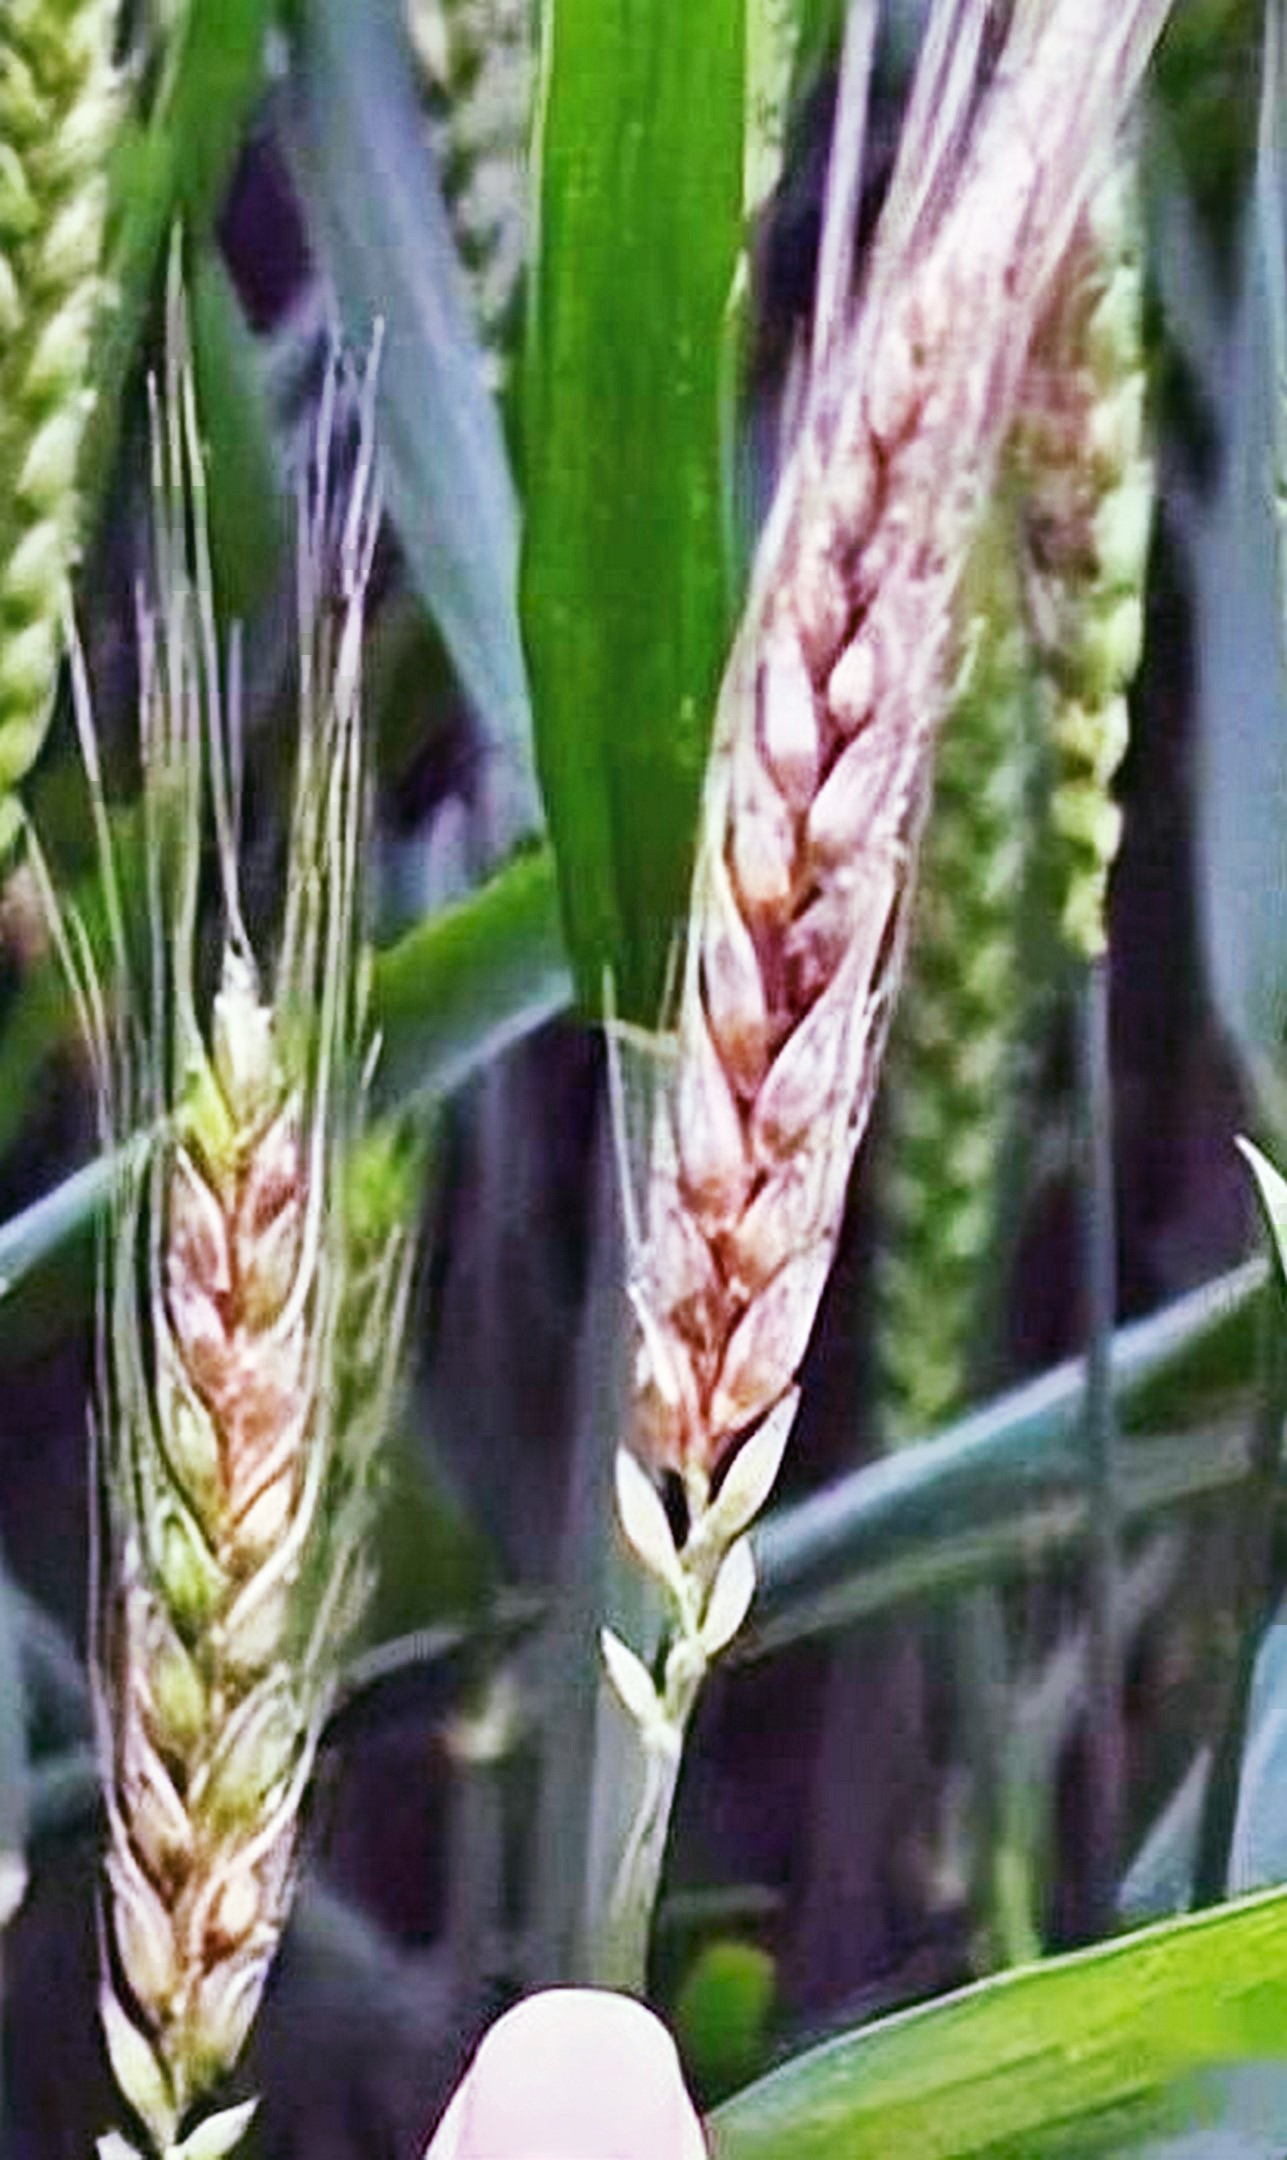Wheat scab: (90, 971, 372, 2113)
